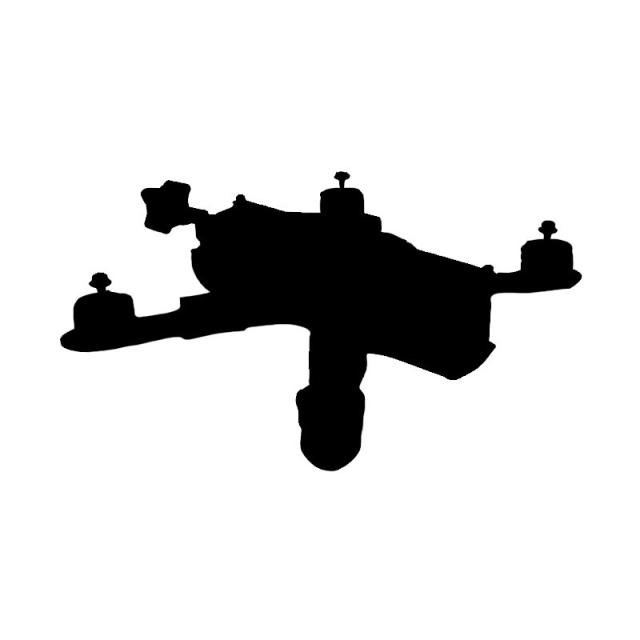drone: (58, 147, 612, 483)
